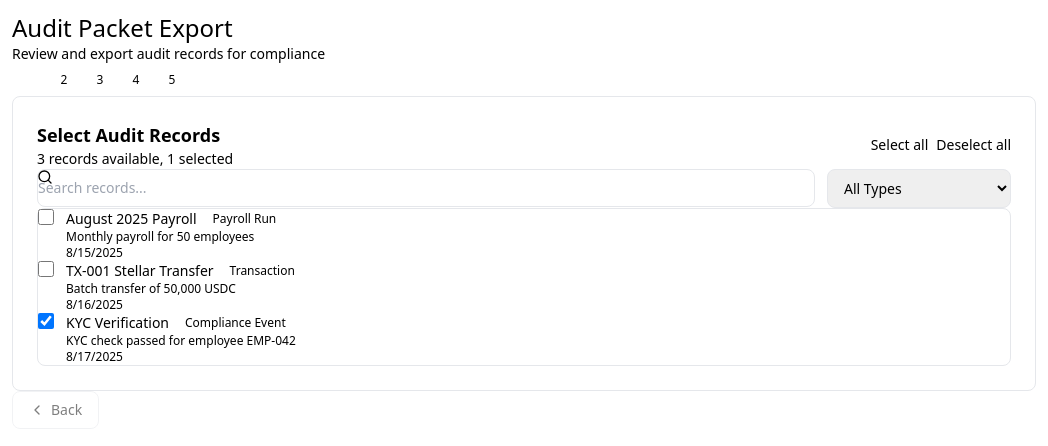
it: AuditExportWizard › toggles entry selection
The width and height of the screenshot is (1048, 446).
Click the 2nd checkbox. click: [46, 269]
box: left=38, top=261, right=54, bottom=277
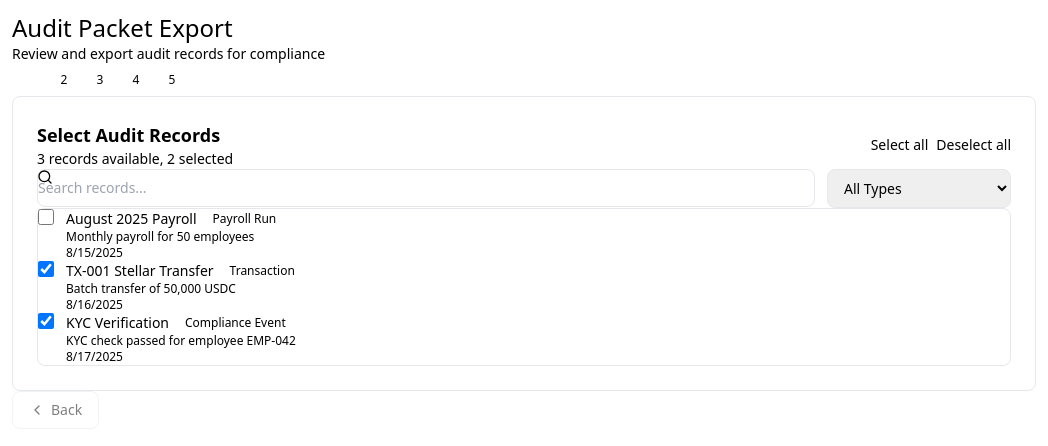
expect the text "3 records available, 2 selected" is shown: met, box left=37, top=149, right=233, bottom=169
